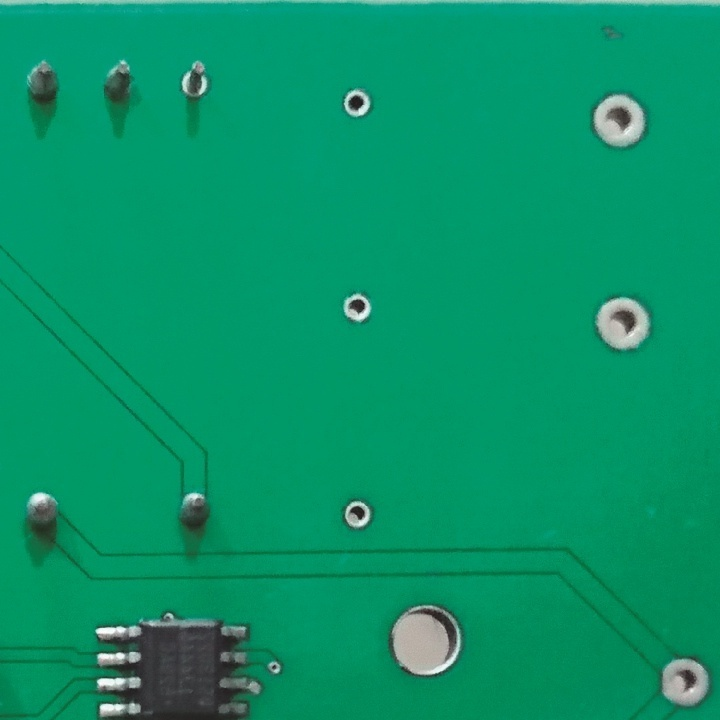F: (592, 291, 656, 358), (587, 90, 649, 152), (658, 650, 715, 712), (178, 60, 212, 107), (339, 290, 374, 326), (341, 498, 376, 533), (341, 88, 374, 124)
